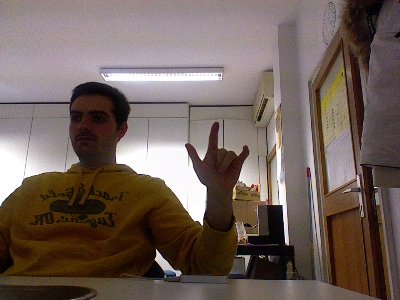我爱你: (184, 121, 249, 190)
